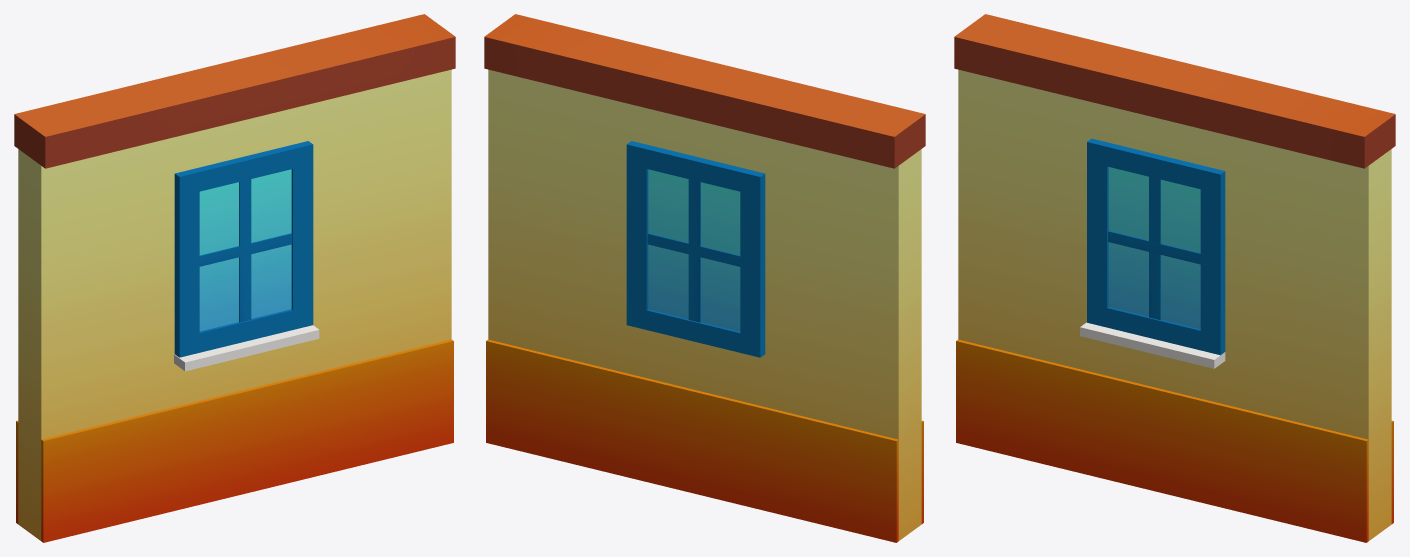
File: M1_Wall_01_3.fbx
3 renders of one model, left to right at view 1: azimuth 30°, elevation 25°; view 2: azimuth 150°, elevation 25°; view 3: azimuth 330°, elevation 25°, orthographic.
Parts seen in each view (by area): view 1: M1_Wall_01_3; view 2: M1_Wall_01_3; view 3: M1_Wall_01_3.
Boxes of the visible parts, x1,y1,x2,y2 form: M1_Wall_01_3: [14, 14, 455, 542]; M1_Wall_01_3: [484, 14, 925, 542]; M1_Wall_01_3: [954, 14, 1395, 542].
Bounding box in the file's own units: 400 × 380 × 65.72.
